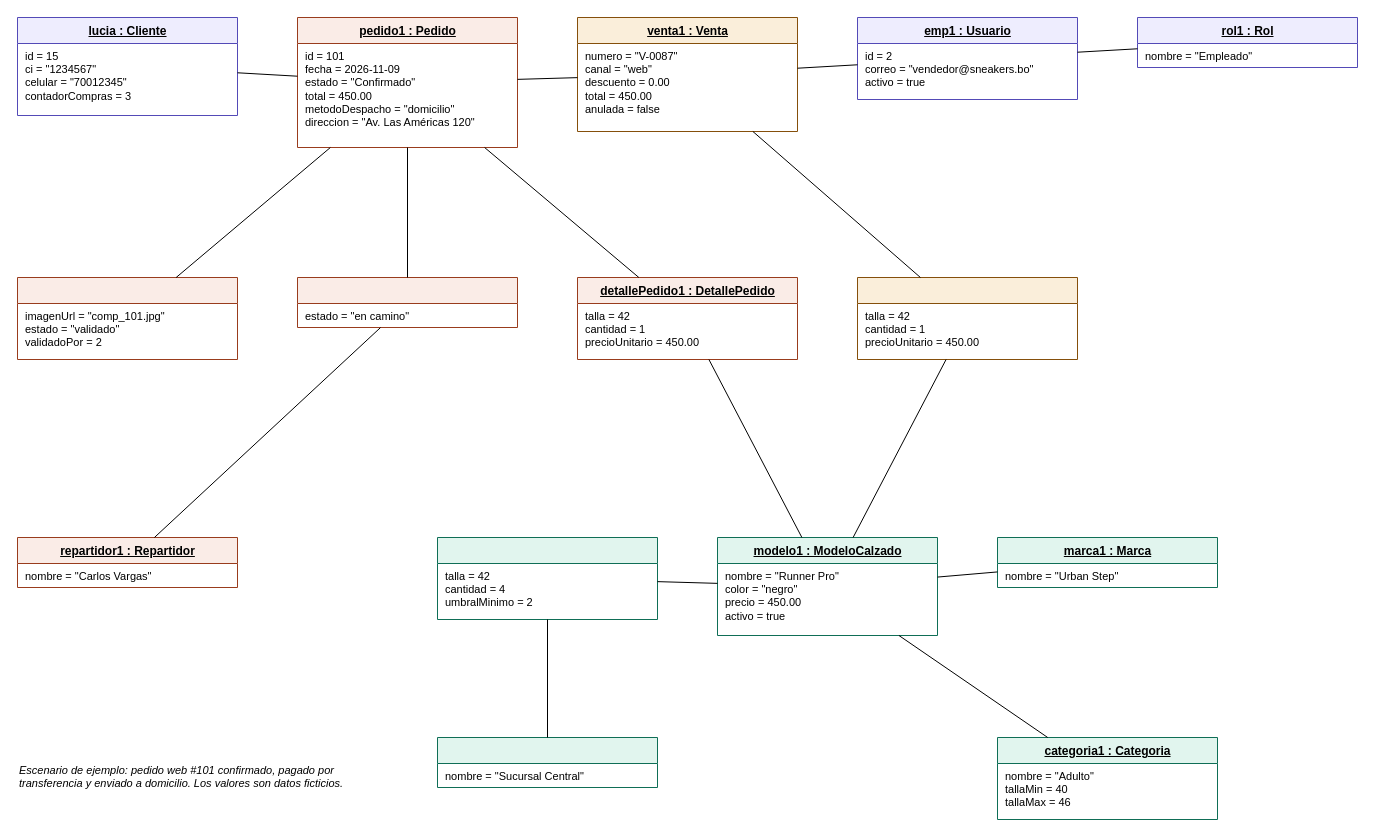
The diagram is 1375 pixels wide and 840 high, and some of its shapes have lost their labels. The box of each missing label's shape, as (x1, y1, x2, y2) in pixels:
comprobante1 : ComprobantePago: (16, 276, 238, 360)
despacho1 : Despacho: (296, 276, 518, 328)
detalleVenta1 : DetalleVenta: (856, 276, 1078, 360)
stock1 : Stock: (436, 536, 658, 620)
sucursal1 : Sucursal: (436, 736, 658, 788)
